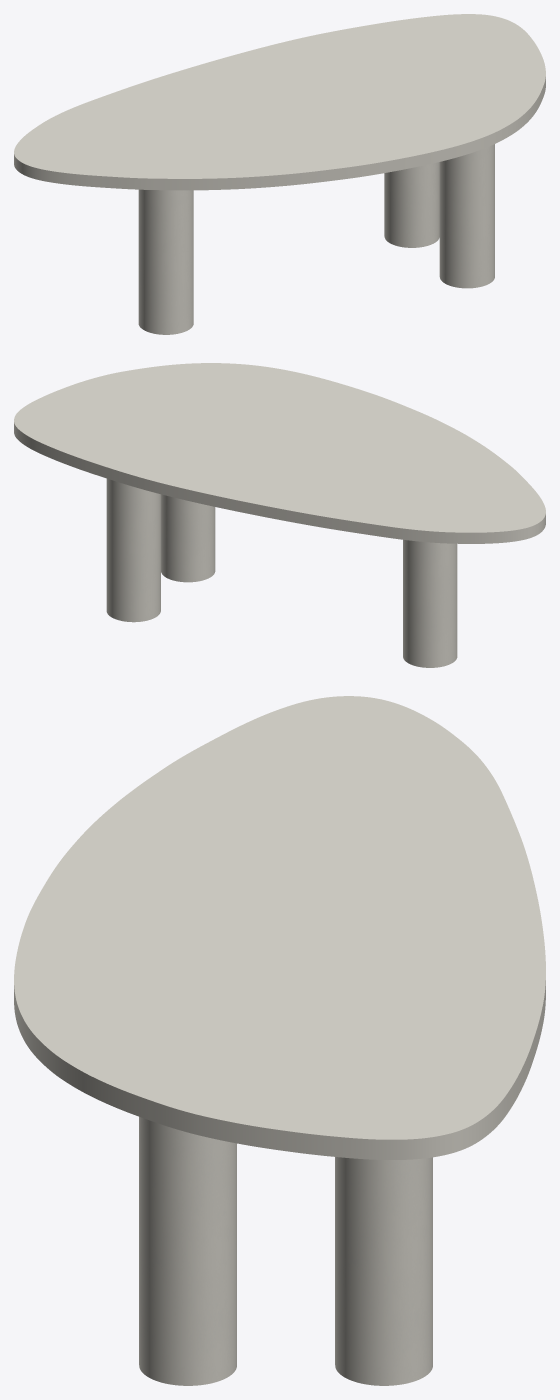
The model's file is pale_pebbletop_standard_cylinder.glb.
3 renders of one model, top to bottom at view 1: azimuth 30°, elevation 25°; view 2: azimuth 150°, elevation 25°; view 3: azimuth 270°, elevation 25°, orthographic. The views are drawn at different scales.
Visible parts, largest first — view 1: standard_pebbletop, cylinder; view 2: standard_pebbletop, cylinder; view 3: standard_pebbletop, cylinder.
Part boxes in pixels (x1,y1,x2,y2): standard_pebbletop: (14, 14, 545, 190); cylinder: (138, 144, 494, 334); standard_pebbletop: (14, 363, 545, 543); cylinder: (106, 478, 457, 667); standard_pebbletop: (14, 696, 545, 1159); cylinder: (139, 1116, 432, 1385).
Size of the model in its own units: 7.5 by 2.53 by 3.8.
Materials: 1 (1 with a texture image).
